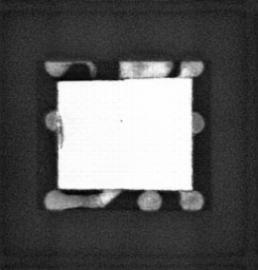DIE_INK: (58, 112, 65, 150), (117, 117, 125, 124)
